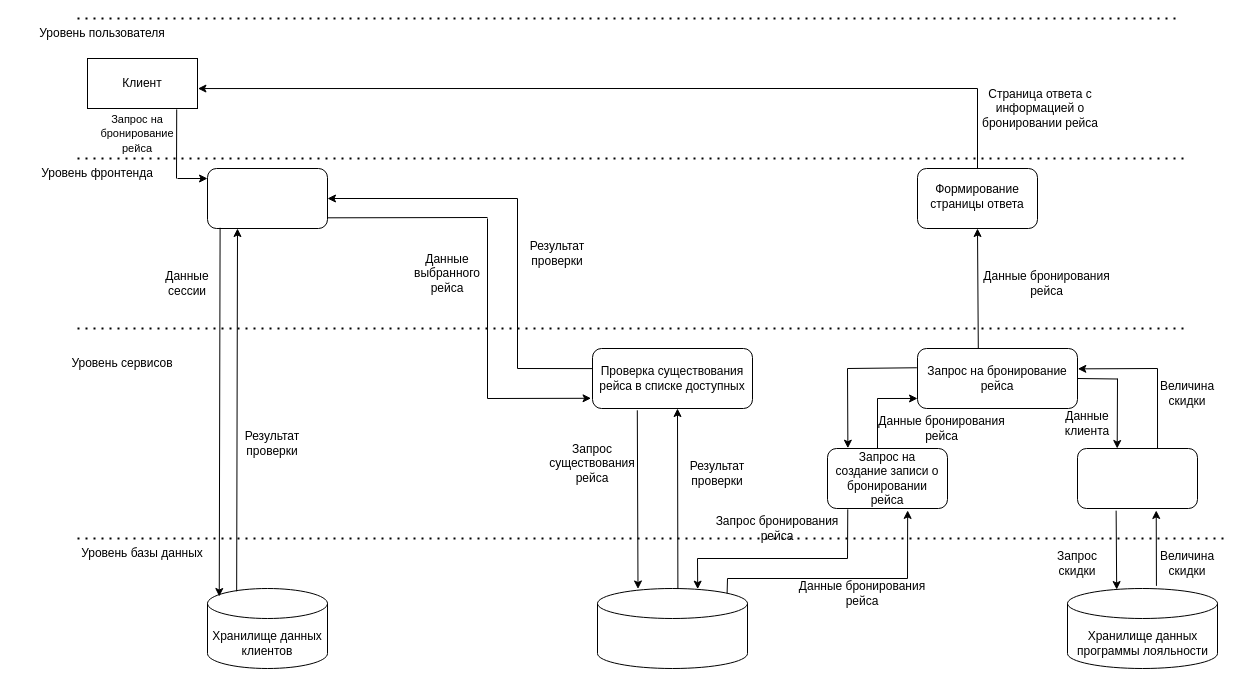
Some shapes in this 1246 by 686 pixel diagram are drawn without their labels. The centre of each missing label's shape, as x and y in pixels:
"Запрос на получение персональной скидки" belongs at point 1137,478.
"Проверка авторизации" belongs at point 267,198.
"Хранилище данных о рейсах" belongs at point 672,628.
